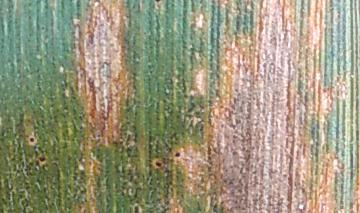tarspot: (153, 159, 163, 169), (26, 135, 37, 144), (37, 154, 47, 163), (173, 150, 182, 159), (133, 203, 141, 213)
